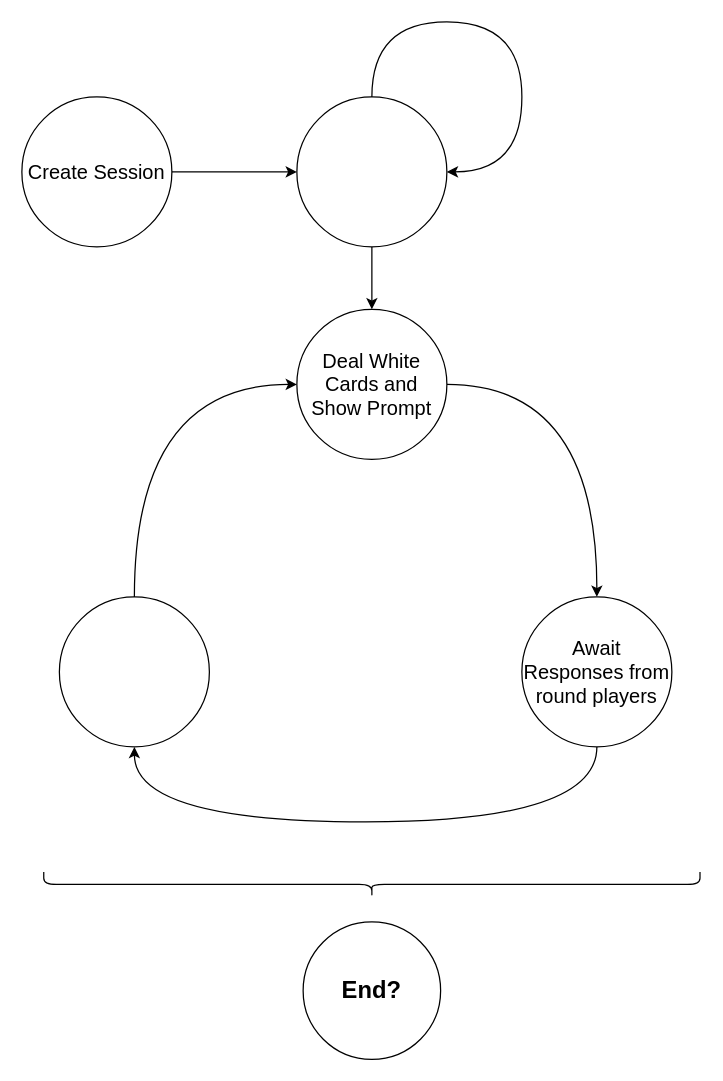
Some shapes in this 723 by 1081 pixel diagram are drawn without their labels. The centre of each missing label's shape, as x and y in pixels:
Czar Select Winner and Cycle Czar: (x=133, y=671)
Players Join Session: (x=371, y=171)
